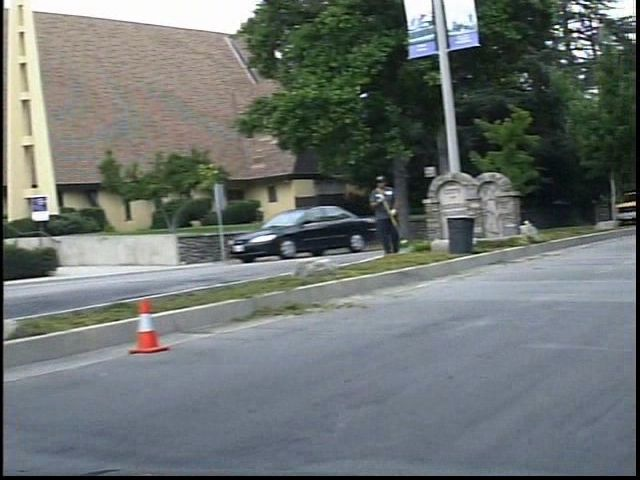person: (379, 174, 417, 262)
